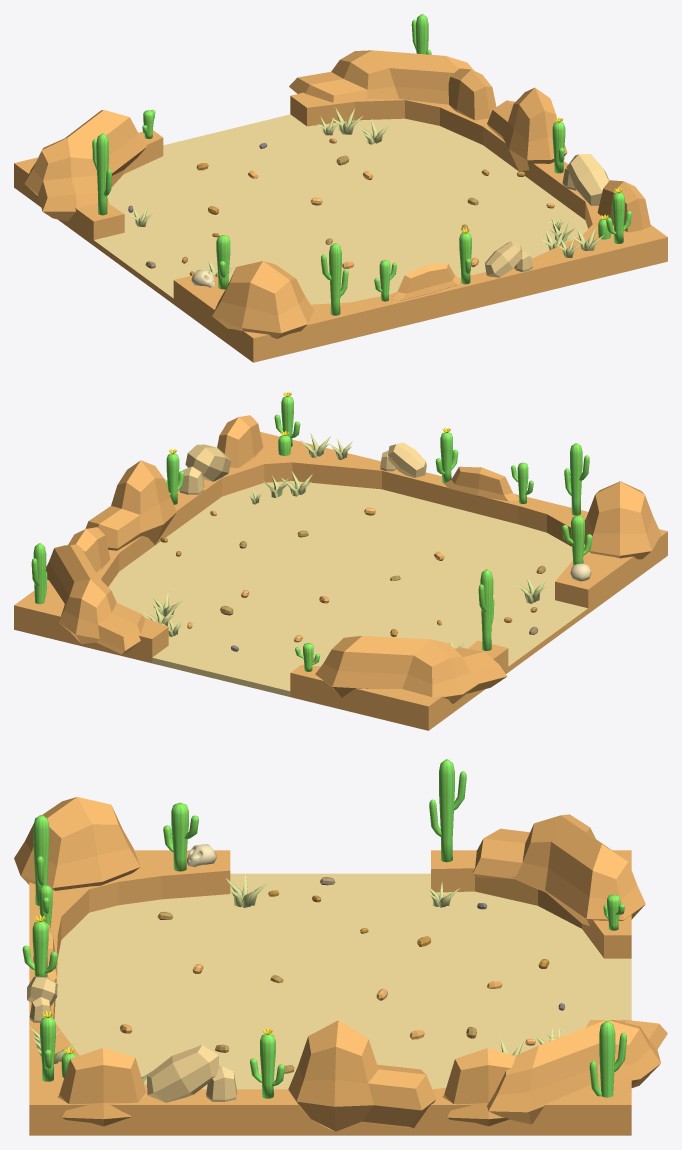
The model's file is desert level set - 2 Way (1).fbx.
3 views of the same model, one above another, from view 1: azimuth 30°, elevation 25°; view 2: azimuth 150°, elevation 25°; view 3: azimuth 270°, elevation 25° (orthographic). The views are drawn at different scales.
Visible parts, largest first — view 1: land_platform_001, Cube_004, Cube_008, Cube_005, Cube_009, Cube_006, Cube_007, Cube_002, Cube_000, Cube_001, CACTUS_002, CACTUS_008 (+6 smaller); view 2: land_platform_001, Cube_004, Cube_008, Cube_009, Cube_005, Cube_000, Cube_007, Cube_002, Cube_001, CACTUS_002, Cube_006, CACTUS_008 (+6 smaller); view 3: land_platform_001, Cube_004, Cube_009, Cube_008, Cube_005, Cube_000, Cube_007, Cube_006, CACTUS_008, CACTUS_009, CACTUS_006, CACTUS_007 (+4 smaller).
Boxes of the visible parts, x1,y1,x2,y2 form: land_platform_001: (14,92,667,362); Cube_004: (24,110,146,221); Cube_008: (289,50,473,104); Cube_005: (212,261,313,338); Cube_009: (487,87,567,171); Cube_006: (448,68,496,120); Cube_007: (562,154,609,205); Cube_002: (390,263,460,300); Cube_000: (597,180,650,232); Cube_001: (485,241,532,277); CACTUS_002: (321,243,348,315); CACTUS_008: (92,133,111,215); land_platform_001: (14,432,667,730); Cube_004: (315,636,507,703); Cube_008: (46,544,144,654); Cube_009: (85,460,176,550); Cube_005: (584,481,661,559); Cube_000: (217,415,263,468); Cube_007: (179,444,230,494); Cube_002: (444,466,518,501); Cube_001: (380,442,426,477); CACTUS_002: (564,443,589,515); Cube_006: (68,527,110,573); CACTUS_008: (478,569,494,650); land_platform_001: (29,850,631,1135); Cube_004: (472,814,645,926); Cube_009: (288,1020,436,1131); Cube_008: (487,1020,667,1124); Cube_005: (14,797,140,890); Cube_000: (58,1048,147,1126); Cube_007: (147,1045,237,1102); Cube_006: (442,1048,515,1126); CACTUS_008: (429,759,466,862); CACTUS_009: (589,1021,626,1097); CACTUS_006: (163,802,198,871); CACTUS_007: (250,1027,284,1098).
Bounding box in the file's own units: 16.66 × 3.7 × 16.47.
